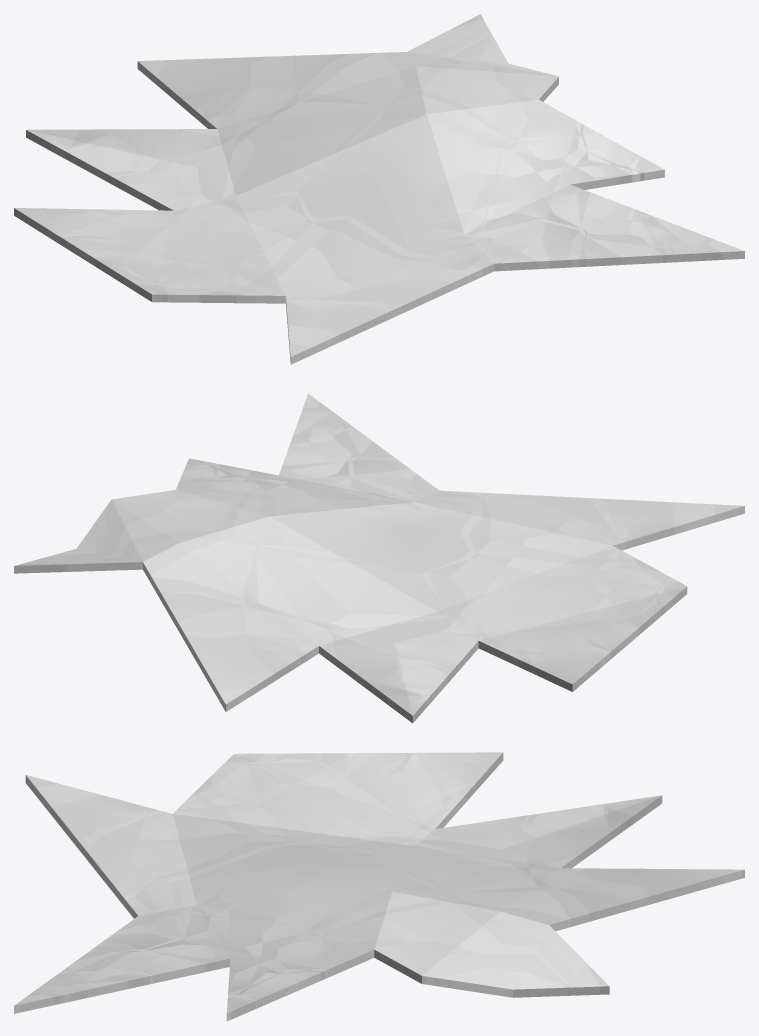
File: G_Papierfetzen01.fbx
3 renders of one model, top to bottom at view 1: azimuth 30°, elevation 25°; view 2: azimuth 150°, elevation 25°; view 3: azimuth 270°, elevation 25°, orthographic. The views are drawn at different scales.
Parts seen in each view (by area): view 1: Papierfetzen01; view 2: Papierfetzen01; view 3: Papierfetzen01.
Boxes of the visible parts, left/top/right/bottom form: Papierfetzen01: left=14, top=14, right=744, bottom=364; Papierfetzen01: left=14, top=393, right=744, bottom=723; Papierfetzen01: left=14, top=752, right=744, bottom=1021.
Bounding box in the file's own units: 1.58 × 0.1829 × 1.82.
